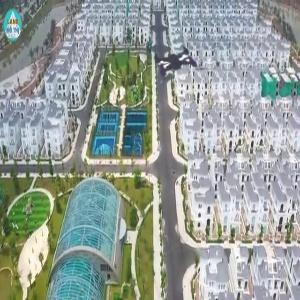drone: (126, 15, 229, 118)
